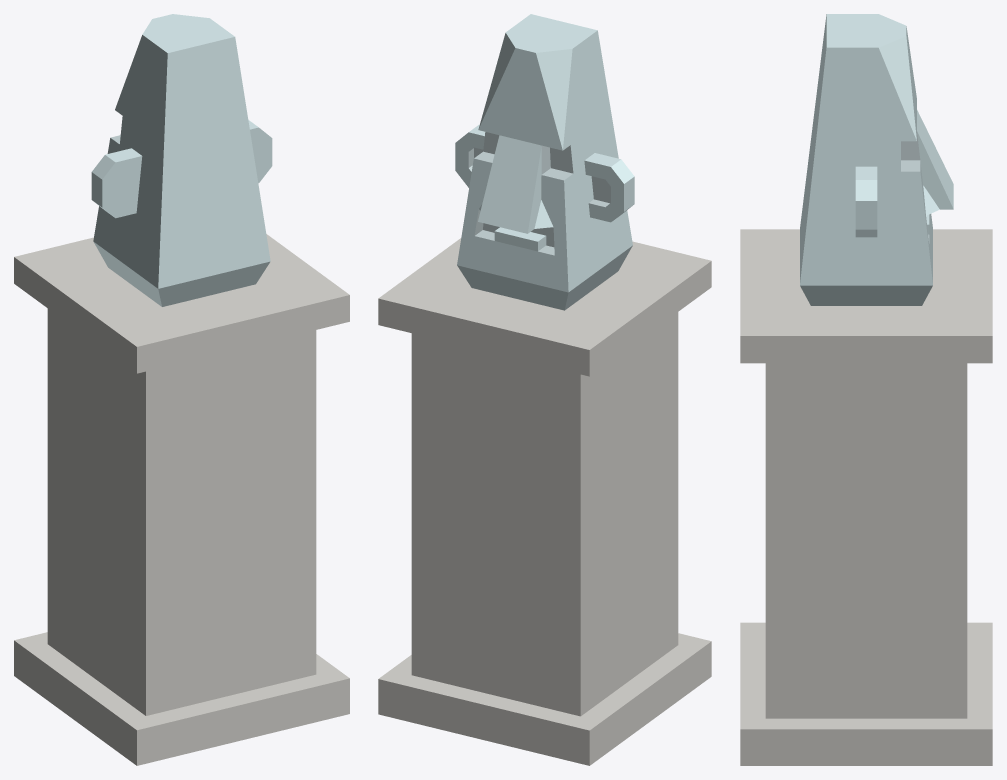
File: sculpture.glb
3 views of the same model, side by side, from view 1: azimuth 30°, elevation 25°; view 2: azimuth 150°, elevation 25°; view 3: azimuth 270°, elevation 25° (orthographic). The views are drawn at different scales.
Parts seen in each view (by area): view 1: pedestal, statue_head; view 2: pedestal, statue_head; view 3: pedestal, statue_head.
Part boxes in pixels (x1,y1,x2,y2): pedestal: (14, 234, 349, 765); statue_head: (91, 14, 272, 306); pedestal: (378, 238, 711, 765); statue_head: (455, 14, 634, 310); pedestal: (740, 229, 992, 765); statue_head: (800, 14, 953, 305).
Bounding box in the file's own units: 0.5 × 1.49 × 0.5.
